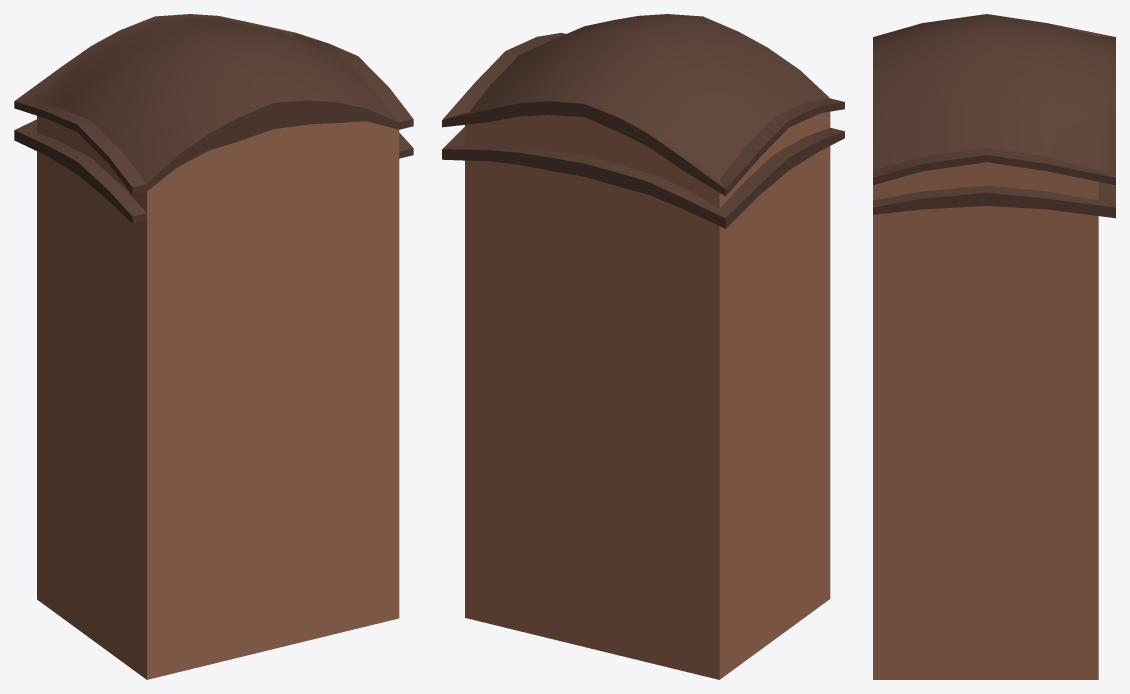
Rendered from vapor2.fbx.
The picture shows the model from 3 angles, left to right: view 1: azimuth 30°, elevation 25°; view 2: azimuth 150°, elevation 25°; view 3: azimuth 270°, elevation 25°; orthographic projection. The views are drawn at different scales.
Visible parts, largest first — view 1: polySurface6; view 2: polySurface6; view 3: polySurface6.
Boxes of the visible parts, bbox=[...] form: polySurface6: bbox=[14, 14, 413, 679]; polySurface6: bbox=[442, 14, 844, 679]; polySurface6: bbox=[873, 14, 1115, 679].
Bounding box in the file's own units: 29.29 × 56.63 × 21.33.
